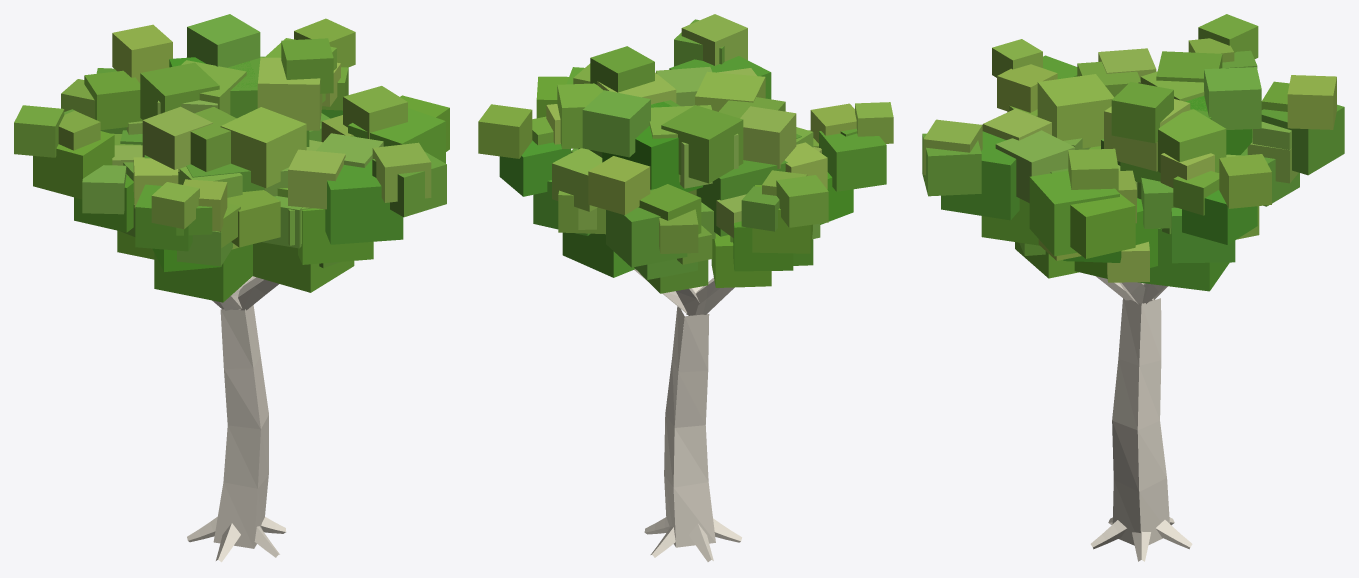
File: tree_birch.glb
3 renders of one model, left to right at view 1: azimuth 30°, elevation 25°; view 2: azimuth 150°, elevation 25°; view 3: azimuth 270°, elevation 25°, orthographic. The views are drawn at different scales.
Parts seen in each view (by area): view 1: tree_birch_foliage, tree_birch_bark; view 2: tree_birch_foliage, tree_birch_bark; view 3: tree_birch_foliage, tree_birch_bark.
Part boxes in pixels (left/top/right/bottom): tree_birch_foliage: left=14, top=14, right=449, bottom=302; tree_birch_bark: left=187, top=276, right=286, bottom=562; tree_birch_foliage: left=478, top=14, right=893, bottom=293; tree_birch_bark: left=634, top=269, right=741, bottom=561; tree_birch_foliage: left=922, top=14, right=1344, bottom=291; tree_birch_bark: left=1090, top=276, right=1192, bottom=561.
Size of the model in its own units: 4.49 by 5.61 by 4.46.
